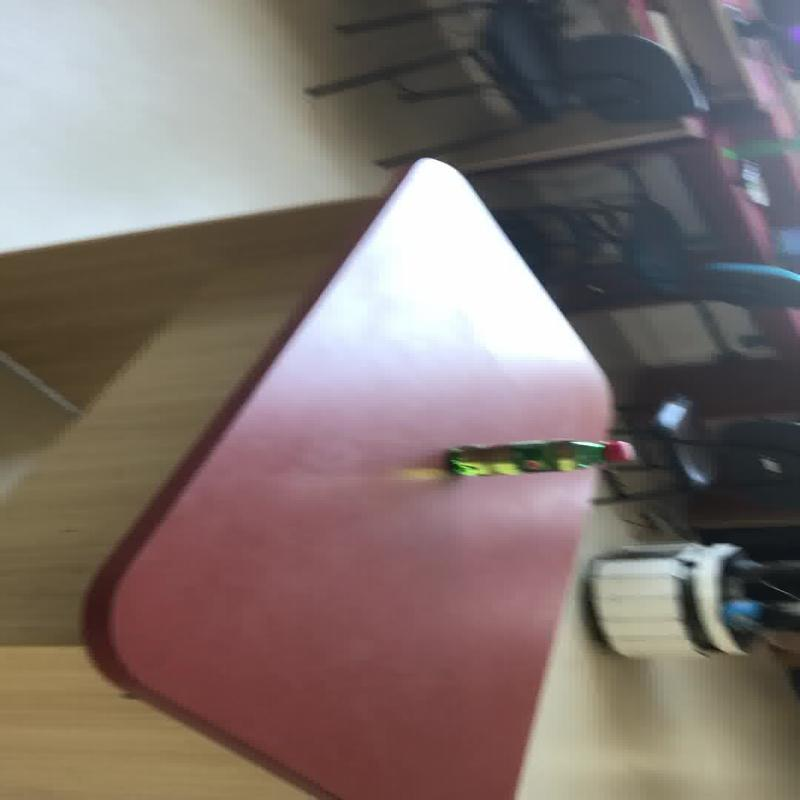guarana: (443, 437, 636, 477)
